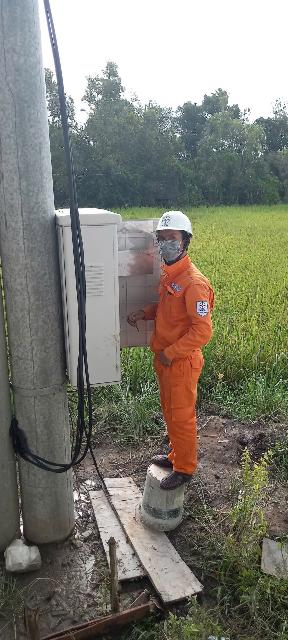helmet: (153, 206, 208, 238)
shoes: (156, 463, 198, 491), (151, 448, 184, 468)
